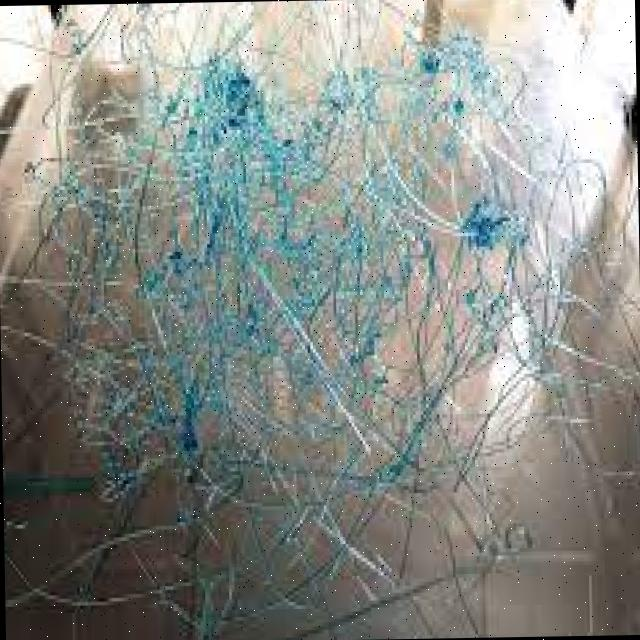spaghetti: (13, 0, 638, 640)
